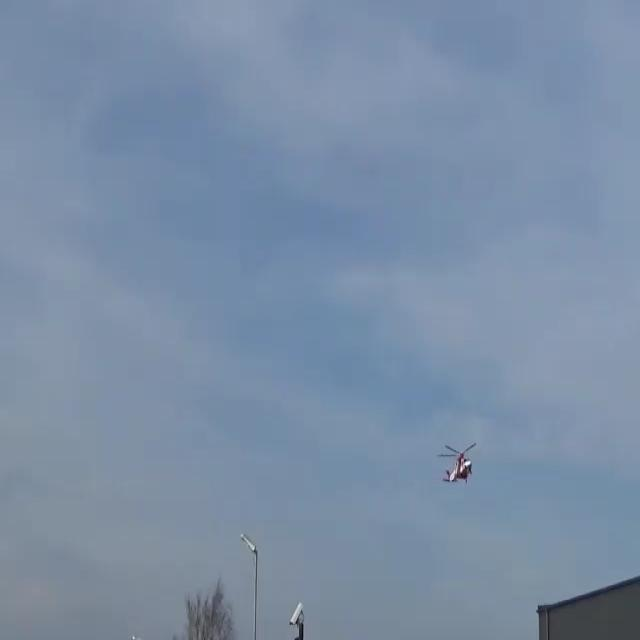Helicopter: (431, 436, 490, 488)
